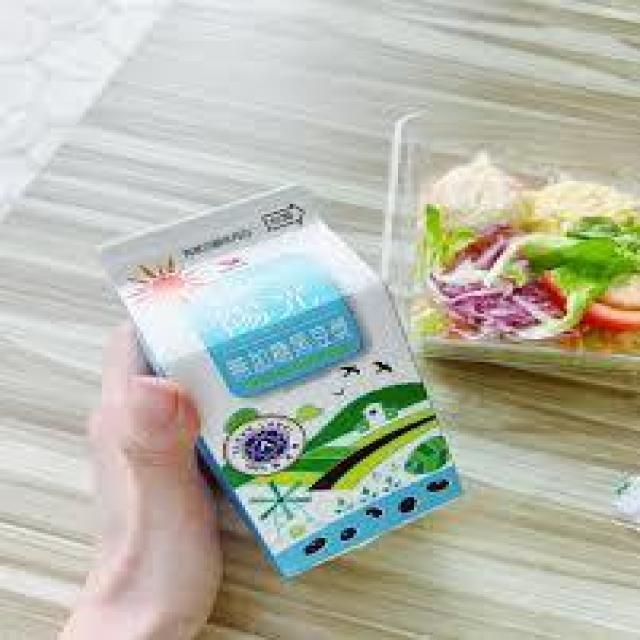TongYi_UnsweetenedBlackSoyMilk: (94, 177, 467, 578)
